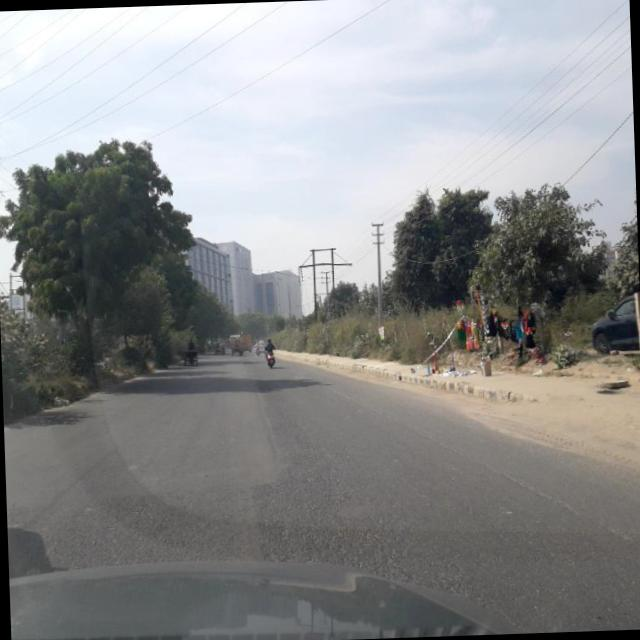pothole: (474, 460, 636, 544), (239, 372, 301, 462), (391, 414, 473, 468)
